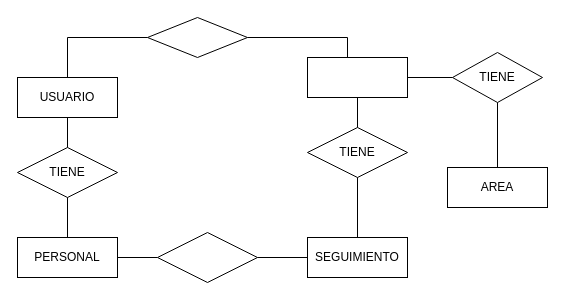
This 565x300 diagram has some shape labels left out. Here are the shapes that lost their labels. From the top down, the box of each, then its label:
(146, 16, 248, 58): ASIGNA
(306, 56, 408, 98): TICKET
(156, 232, 258, 282): REPORTA
